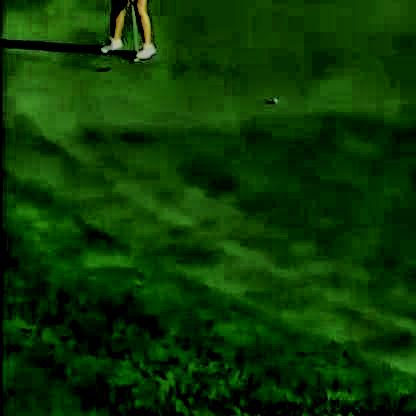golfball: (270, 94, 275, 101)
